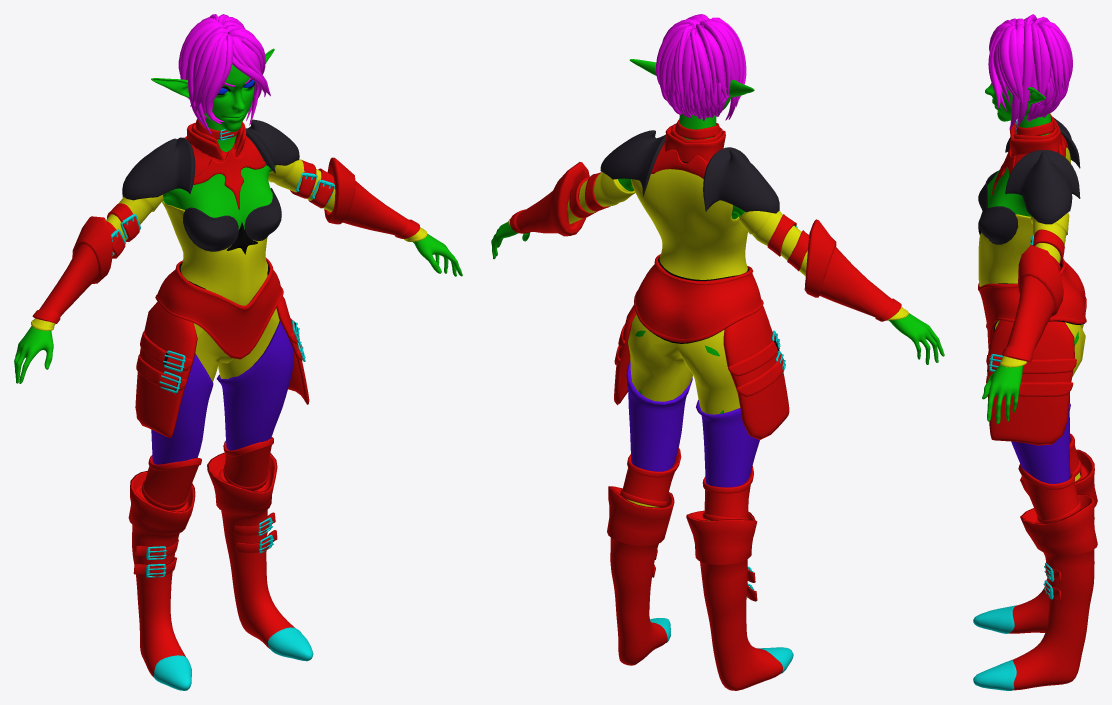
The model's file is Elf Prototype Demo.fbx.
The picture shows the model from 3 angles, left to right: view 1: azimuth 30°, elevation 25°; view 2: azimuth 150°, elevation 25°; view 3: azimuth 270°, elevation 25°; orthographic projection.
Parts seen in each view (by area): view 1: Armour1; view 2: Armour1; view 3: Armour1.
Part boxes in pixels (<box>): Armour1: <box>14,14,462,690</box>; Armour1: <box>491,14,944,690</box>; Armour1: <box>973,14,1097,690</box>.
Size of the model in its own units: 141 by 194 by 34.34.
